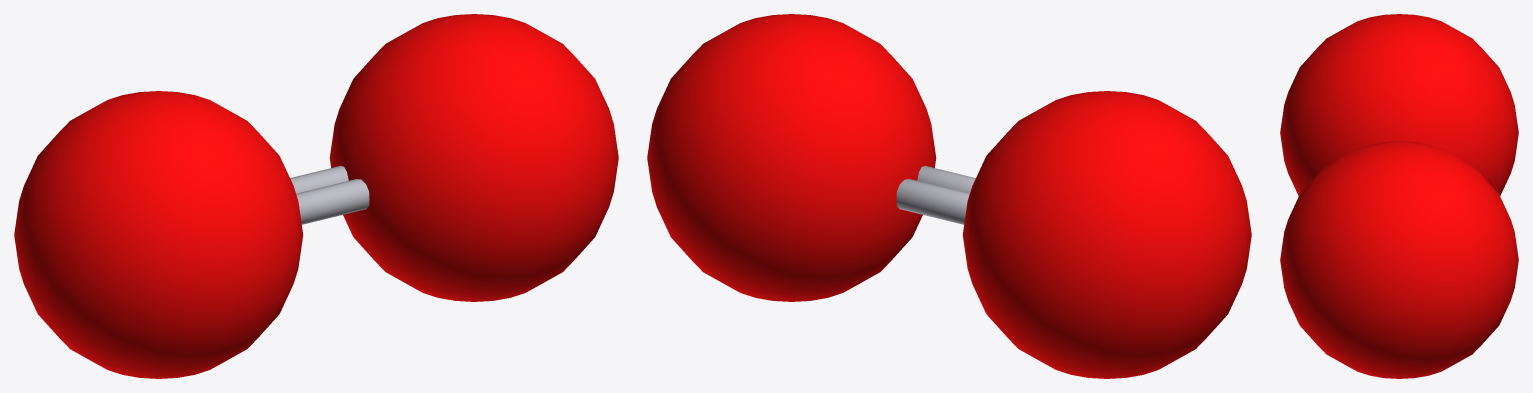
File: oxygen.glb
3 renders of one model, left to right at view 1: azimuth 30°, elevation 25°; view 2: azimuth 150°, elevation 25°; view 3: azimuth 270°, elevation 25°, orthographic. The views are drawn at different scales.
Parts seen in each view (by area): view 1: O1, O0, bond0-0, bond0-1; view 2: O1, O0, bond0-1, bond0-0; view 3: O0, O1.
Part boxes in pixels (x1,y1,x2,y2): O1: (14,91,303,378); O0: (329,14,618,301); bond0-0: (296,179,369,224); bond0-1: (290,165,348,193); O1: (962,91,1251,378); O0: (647,14,936,301); bond0-1: (896,179,969,224); bond0-0: (917,165,975,193); O0: (1280,141,1518,378); O1: (1280,14,1518,195).
Size of the model in its own units: 2.06 by 0.912 by 0.912.
